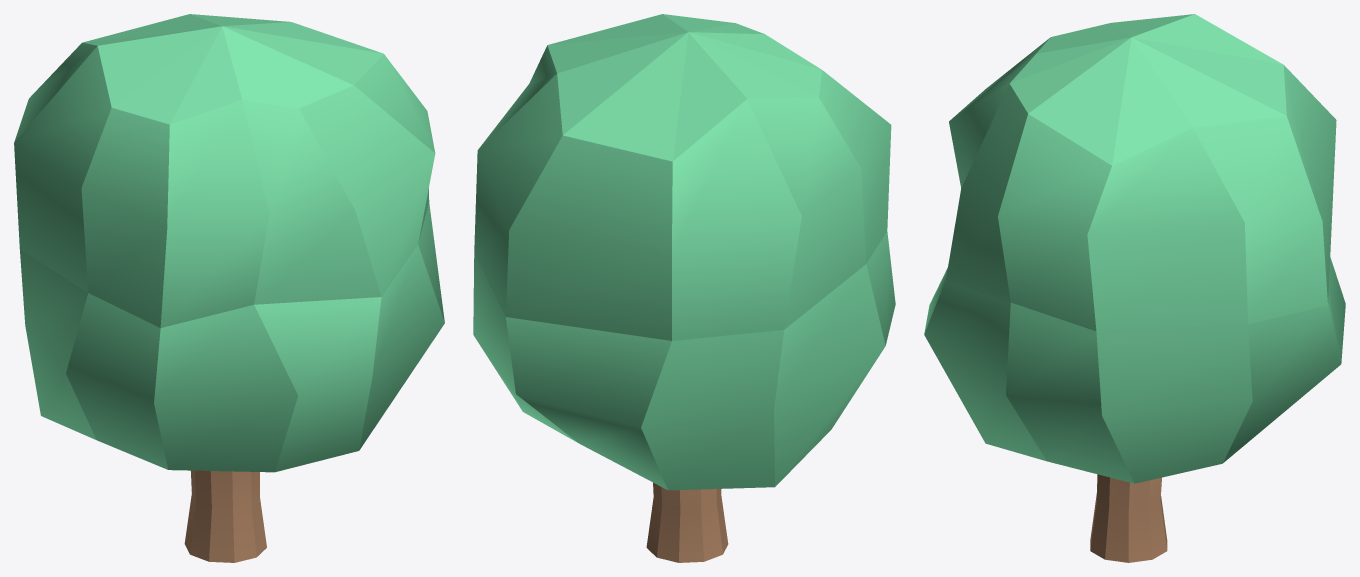
Rendered from tree05.fbx.
3 renders of one model, left to right at view 1: azimuth 30°, elevation 25°; view 2: azimuth 150°, elevation 25°; view 3: azimuth 270°, elevation 25°, orthographic. The views are drawn at different scales.
Visible parts, largest first — view 1: group2, pCylinder2; view 2: group2, pCylinder2; view 3: group2, pCylinder2.
Part boxes in pixels (left/top/right/bottom): group2: left=14, top=14, right=444, bottom=472; pCylinder2: left=184, top=470, right=266, bottom=562; group2: left=473, top=14, right=895, bottom=490; pCylinder2: left=646, top=482, right=728, bottom=562; group2: left=924, top=14, right=1345, bottom=483; pCylinder2: left=1090, top=474, right=1167, bottom=562.
Size of the model in its own units: 459 by 613 by 462.
